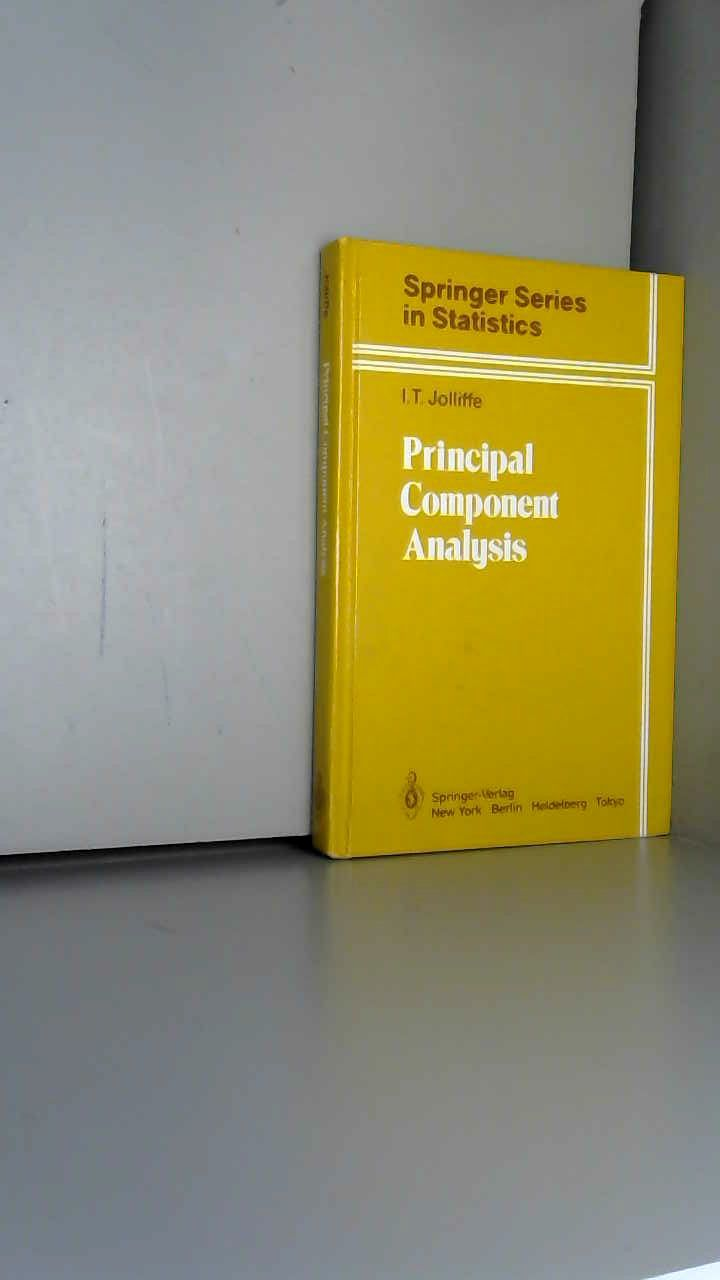book: (280, 210, 718, 884)
